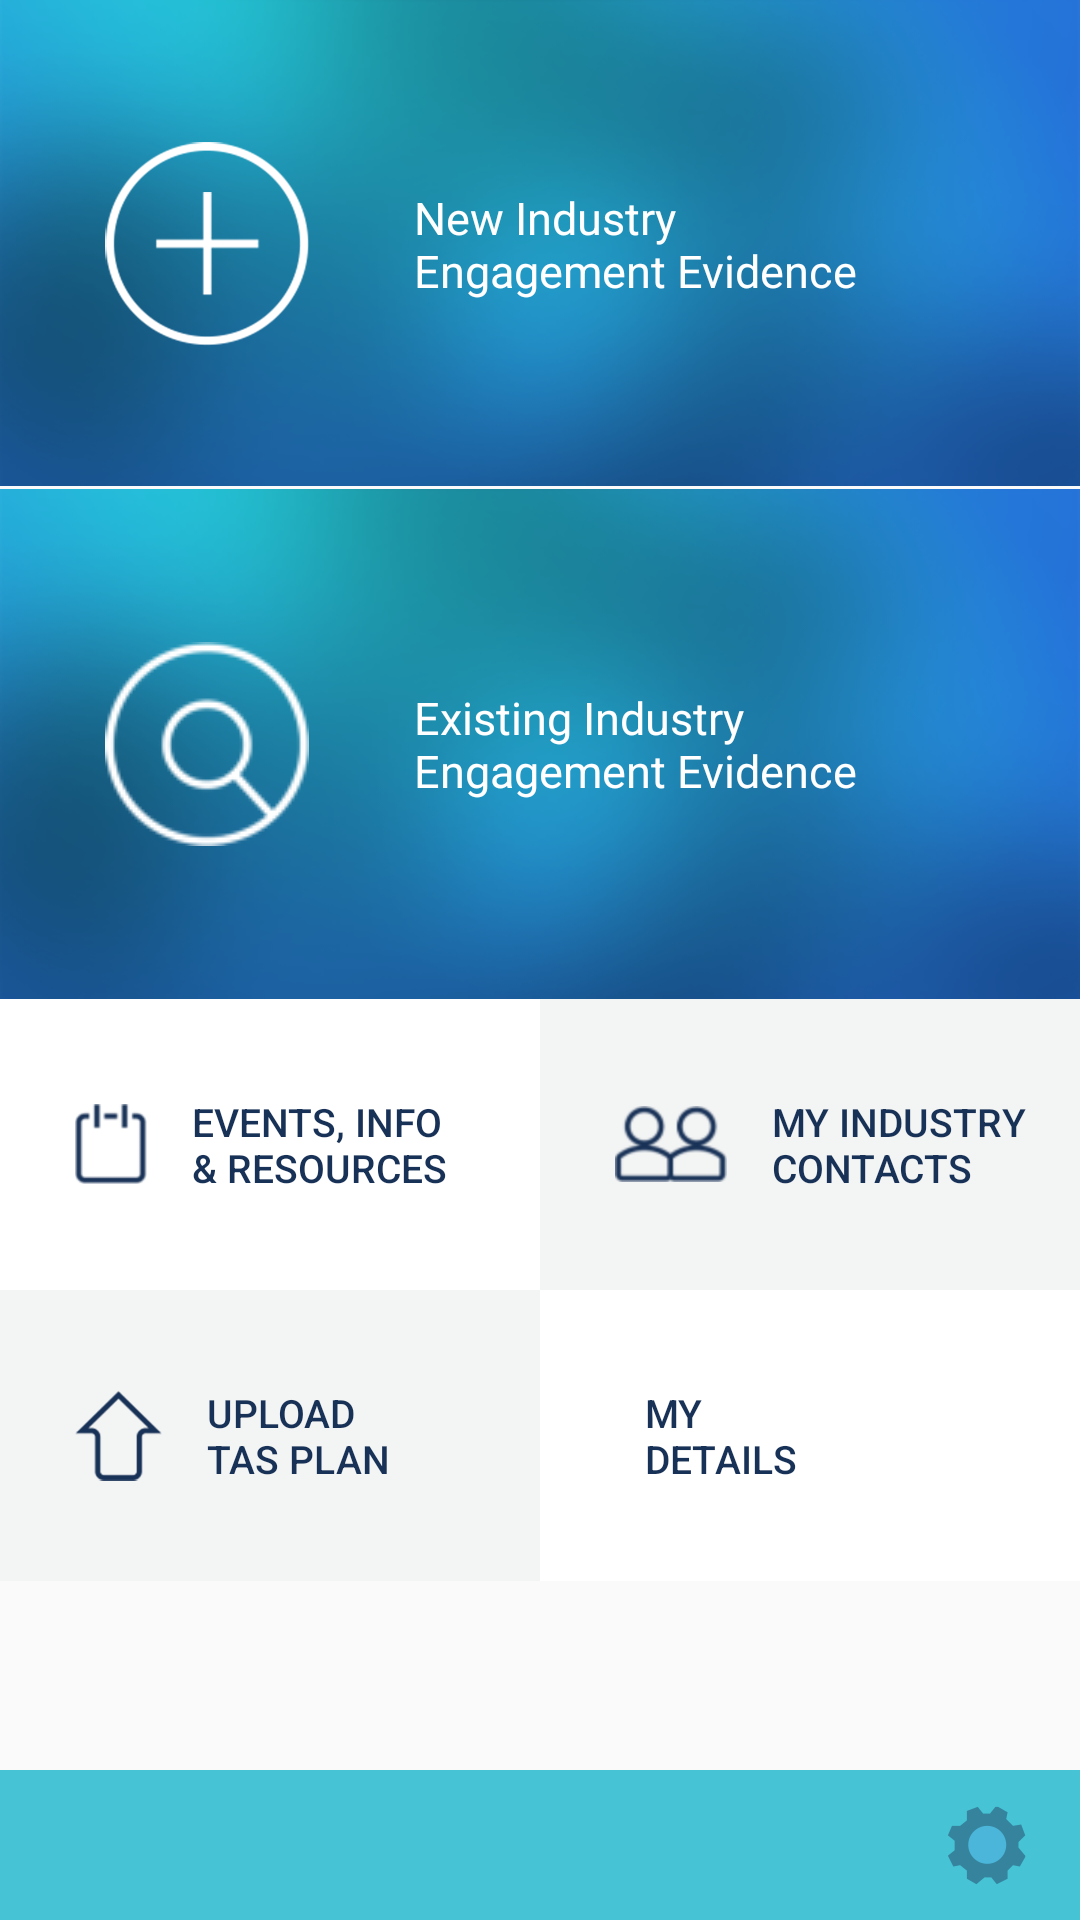

Icons on this 1080px×1920px Android screen, each with the point to tap as (x=x, y=y):
plus: (x=207, y=244)
search: (x=207, y=744)
setting: (x=986, y=1845)
